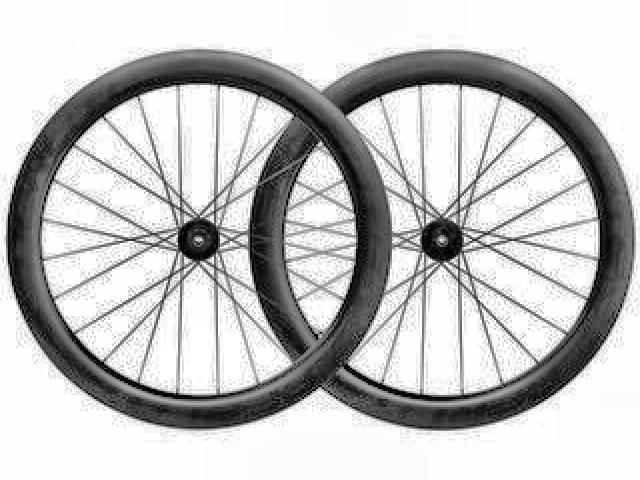wheel: (251, 43, 639, 435), (8, 48, 392, 436)
